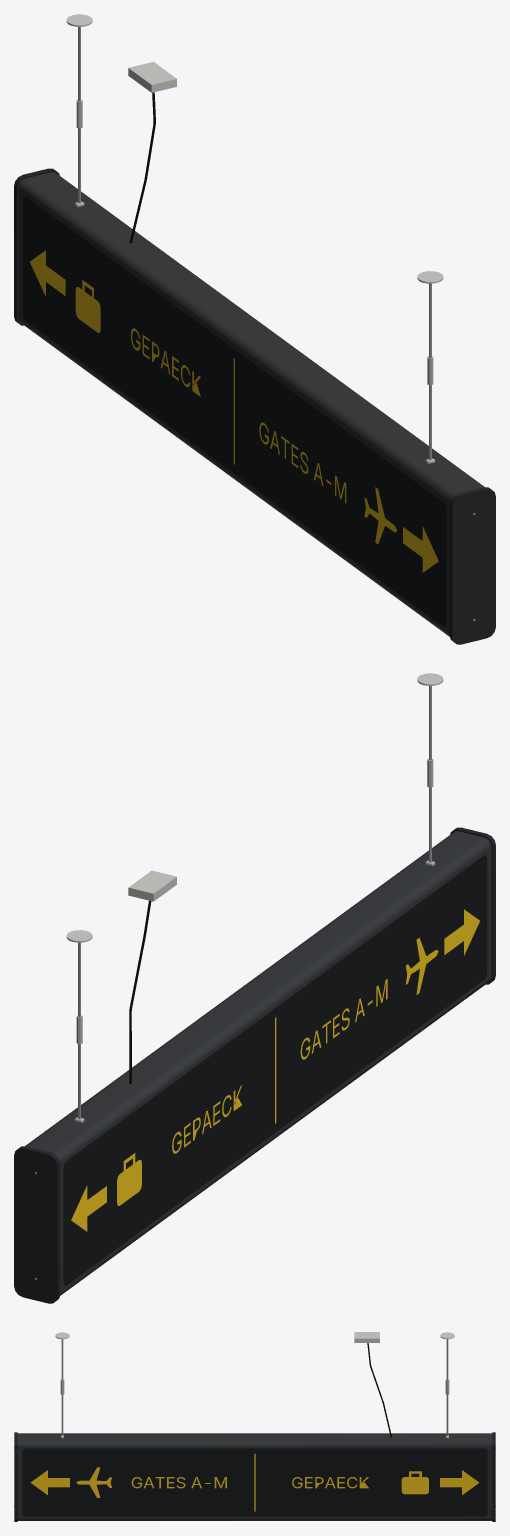
Rendered from sign_36_a.glb.
The picture shows the model from 3 angles, top to bottom: view 1: azimuth 30°, elevation 25°; view 2: azimuth 150°, elevation 25°; view 3: azimuth 270°, elevation 25°; orthographic projection. The views are drawn at different scales.
Parts seen in each view (by area): view 1: wegweiser_3, wegweiser_0, wegweiser_1, wegweiser_4, wegweiser_5, wegweiser_2, gates-x; view 2: wegweiser_3, wegweiser_0, wegweiser_1, wegweiser_4, wegweiser_5, wegweiser_2, gates-x, gep-x; view 3: wegweiser_3, wegweiser_0, wegweiser_4, wegweiser_1, wegweiser_2, wegweiser_5, gep+x, gates+x.
Part boxes in pixels (x1,y1,x2,y2): wegweiser_3: [22, 196, 446, 626]; wegweiser_0: [18, 172, 484, 636]; wegweiser_1: [14, 168, 495, 644]; wegweiser_4: [30, 250, 438, 572]; wegweiser_5: [66, 14, 443, 283]; wegweiser_2: [78, 27, 475, 621]; gates-x: [259, 422, 346, 503]; wegweiser_3: [63, 855, 487, 1285]; wegweiser_0: [25, 831, 491, 1295]; wegweiser_1: [14, 827, 495, 1303]; wegweiser_4: [71, 909, 479, 1231]; wegweiser_5: [66, 673, 443, 942]; wegweiser_2: [34, 686, 431, 1280]; gates-x: [300, 979, 387, 1059]; gep-x: [172, 1085, 241, 1153]; wegweiser_3: [22, 1448, 487, 1516]; wegweiser_0: [17, 1433, 492, 1520]; wegweiser_4: [30, 1453, 479, 1511]; wegweiser_1: [14, 1432, 495, 1521]; wegweiser_2: [14, 1339, 495, 1506]; wegweiser_5: [55, 1332, 454, 1342]; gep+x: [292, 1477, 368, 1488]; gates+x: [131, 1477, 226, 1488].
Bounding box in the file's own units: 0.172 × 1.26 × 3.
